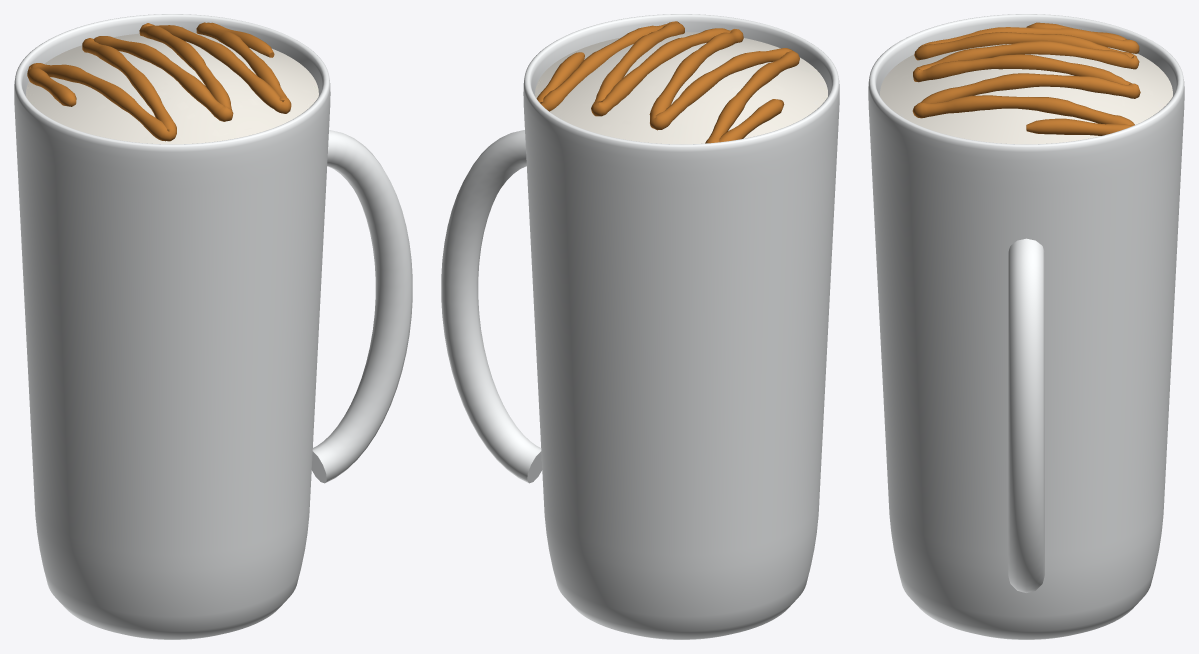
Rendered from caramel-latte.glb.
3 renders of one model, left to right at view 1: azimuth 30°, elevation 25°; view 2: azimuth 150°, elevation 25°; view 3: azimuth 270°, elevation 25°, orthographic.
Parts seen in each view (by area): view 1: base, foam, caramel; view 2: base, foam, caramel; view 3: base, caramel, foam.
Boxes of the visible parts, x1=… form: base: x1=14, y1=14, x2=412, y2=639; foam: x1=26, y1=32, x2=318, y2=144; caramel: x1=27, y1=22, x2=291, y2=141; base: x1=441, y1=14, x2=839, y2=639; foam: x1=535, y1=32, x2=827, y2=144; caramel: x1=536, y1=21, x2=799, y2=143; base: x1=868, y1=14, x2=1184, y2=639; caramel: x1=912, y1=22, x2=1140, y2=135; foam: x1=880, y1=44, x2=1172, y2=144.
Bounding box in the file's own units: 0.098 × 0.1384 × 0.0716.
5 materials, 3 textured.
